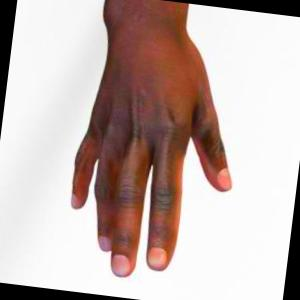paper: (71, 0, 231, 278)
